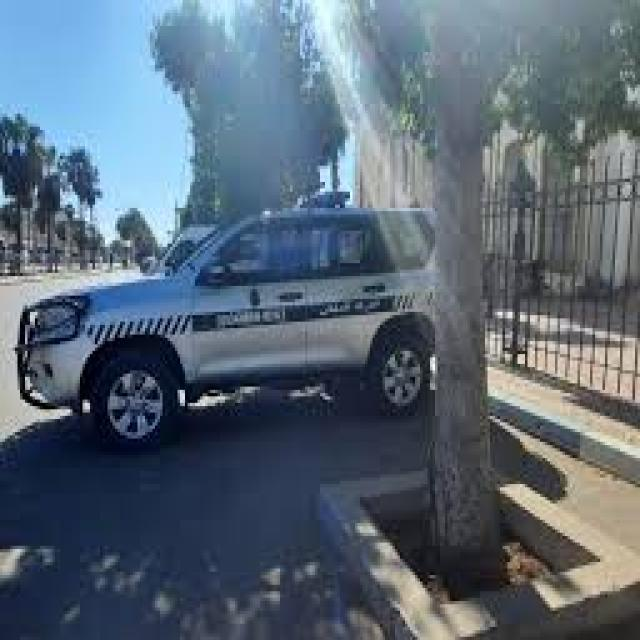gendarme car: (11, 182, 440, 451)
